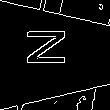N_E: (31, 35, 79, 75)
